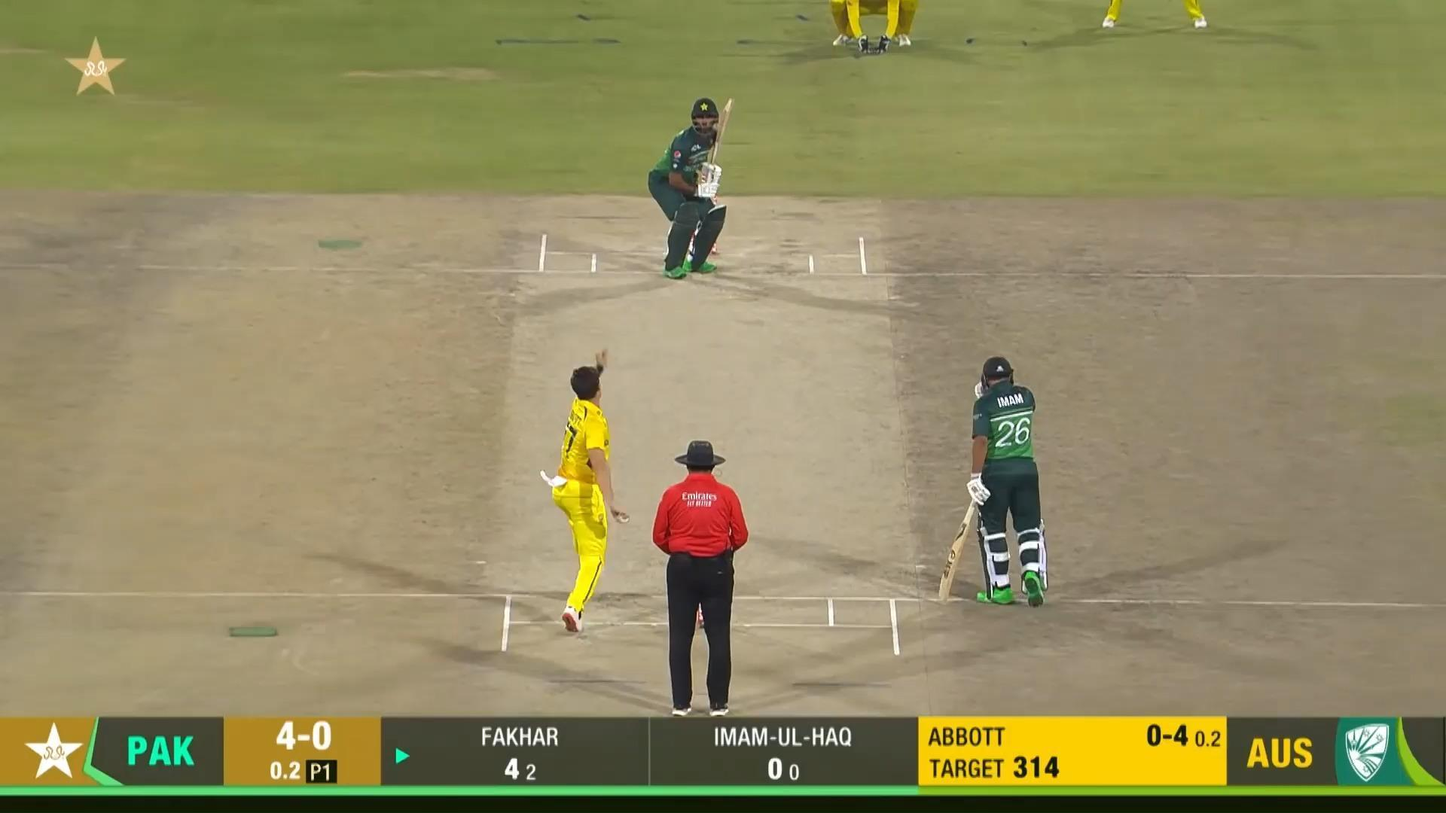BM 1: (648, 96, 737, 279)
BO: (540, 348, 630, 634)
